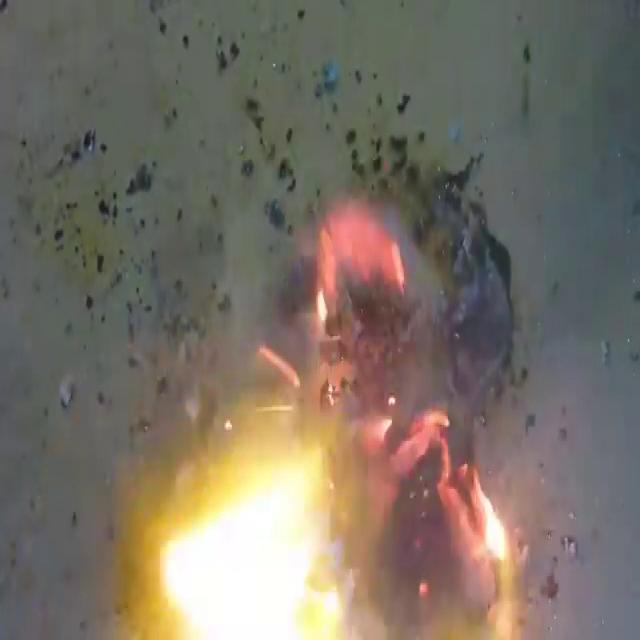Fire: (83, 124, 549, 640)
